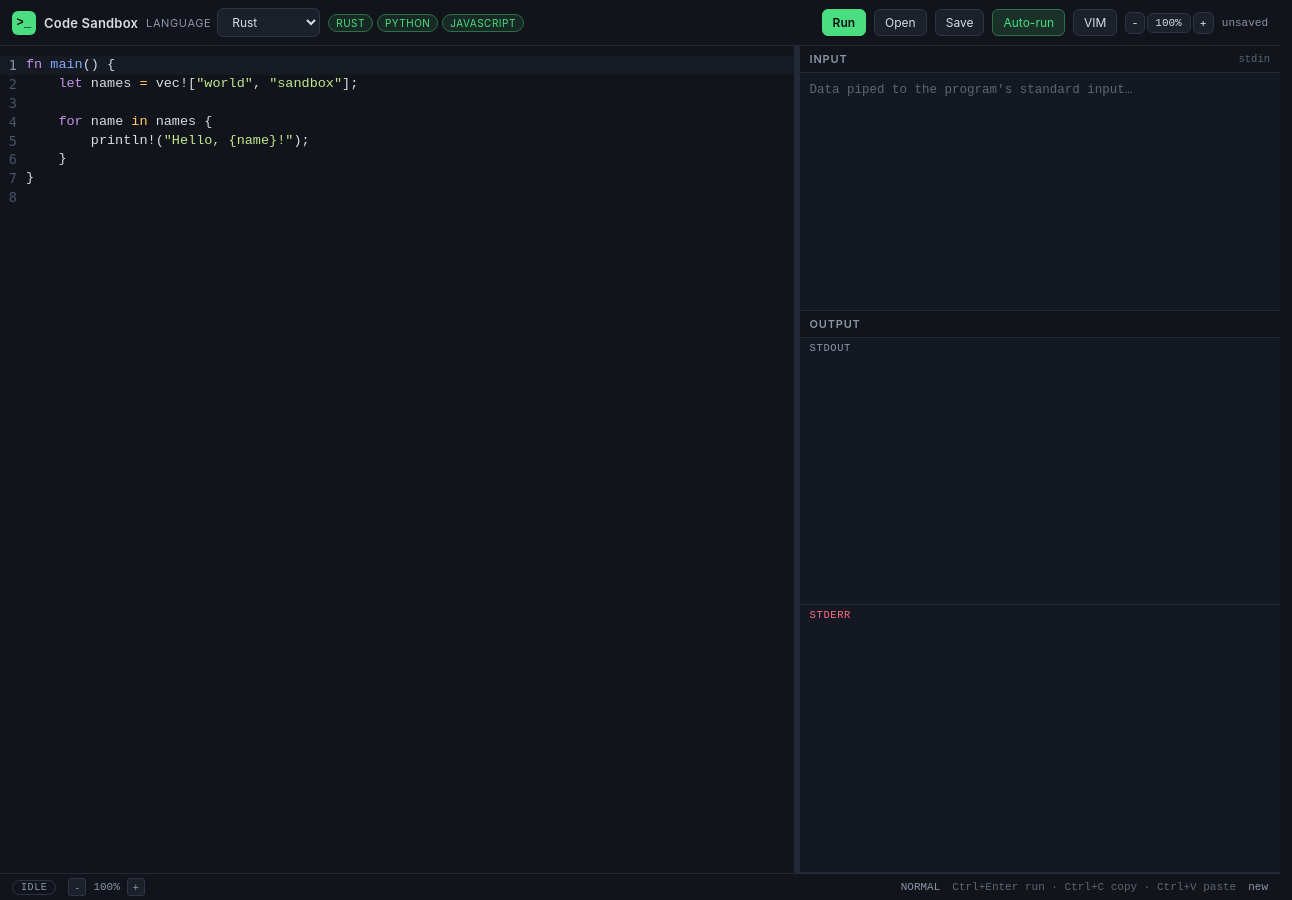
it: Code Sandbox › shows stderr in a separate area
Click the button "Run" at (844, 22), box left=822, top=9, right=866, bottom=36
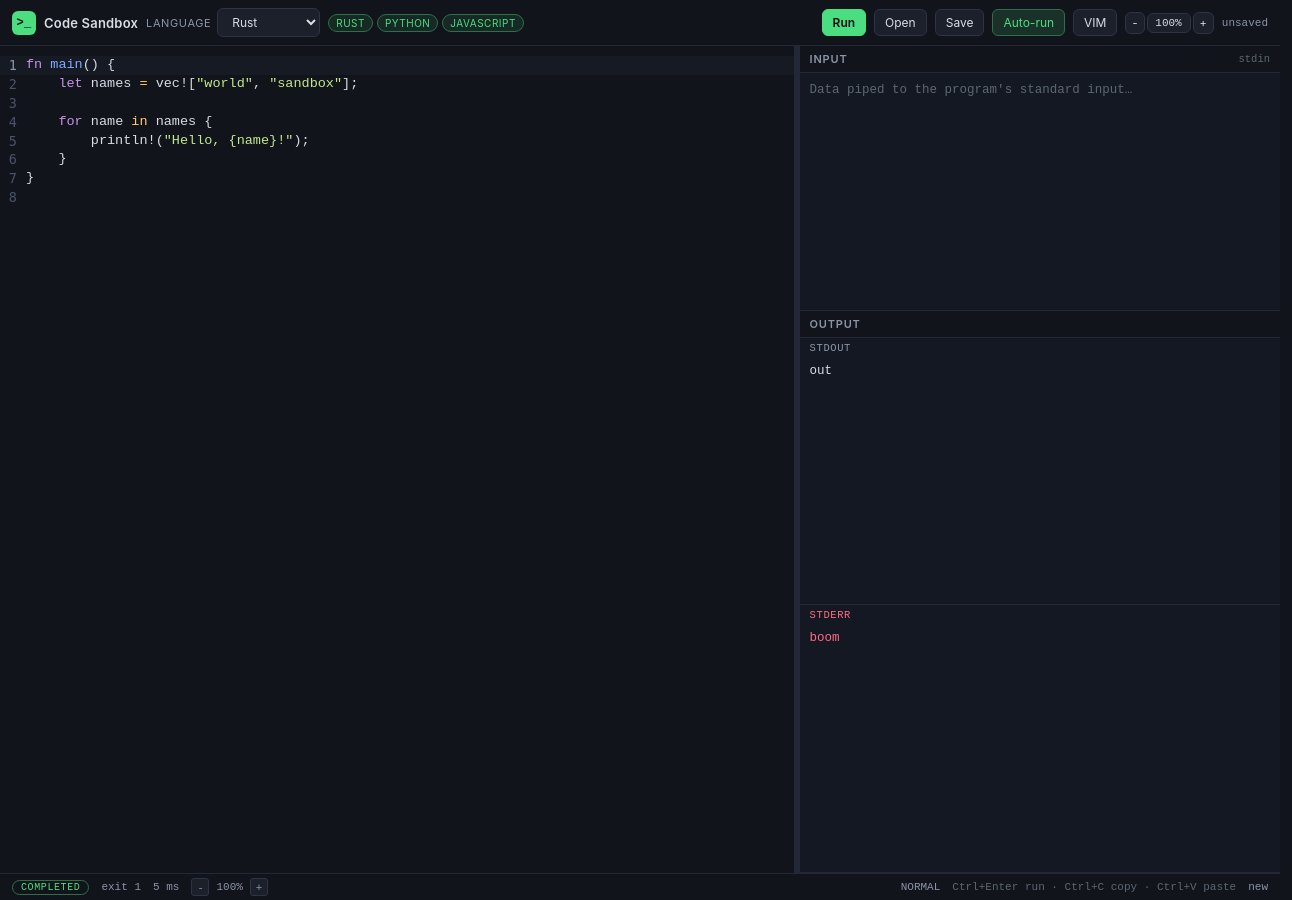
Check: the text with test id "stderr" does not show "out", box left=810, top=631, right=840, bottom=645
Check: the text with test id "stderr" reads "boom", box left=810, top=631, right=840, bottom=645
